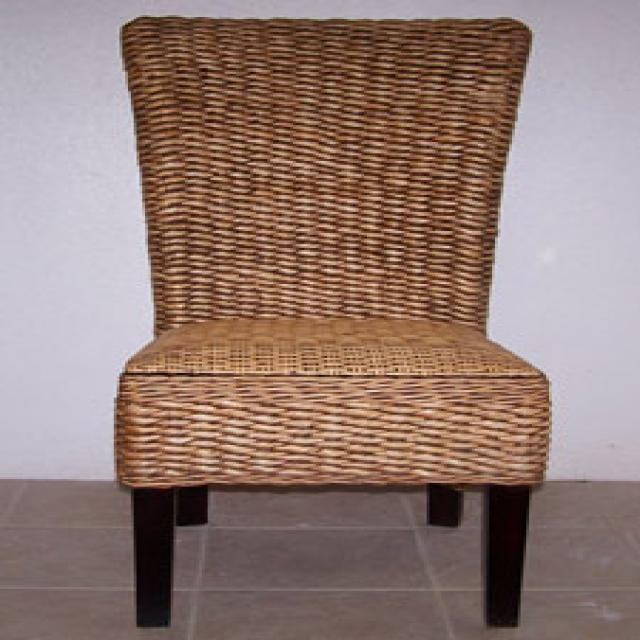chair: (103, 10, 552, 628)
